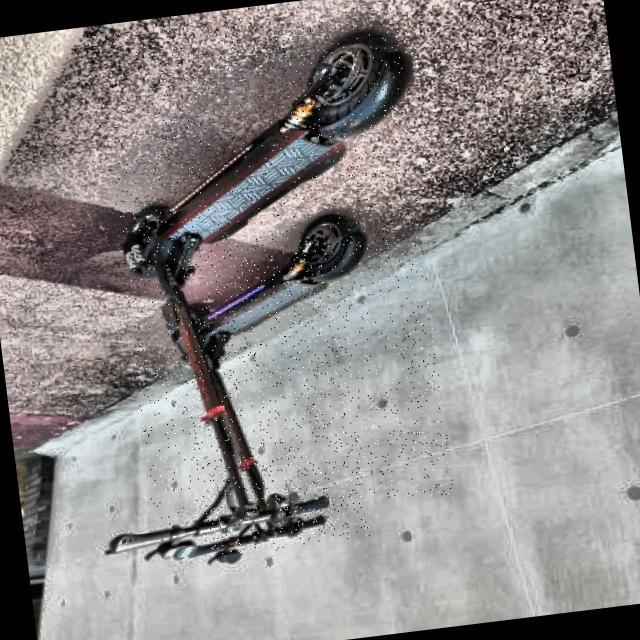bike: (113, 30, 408, 563)
